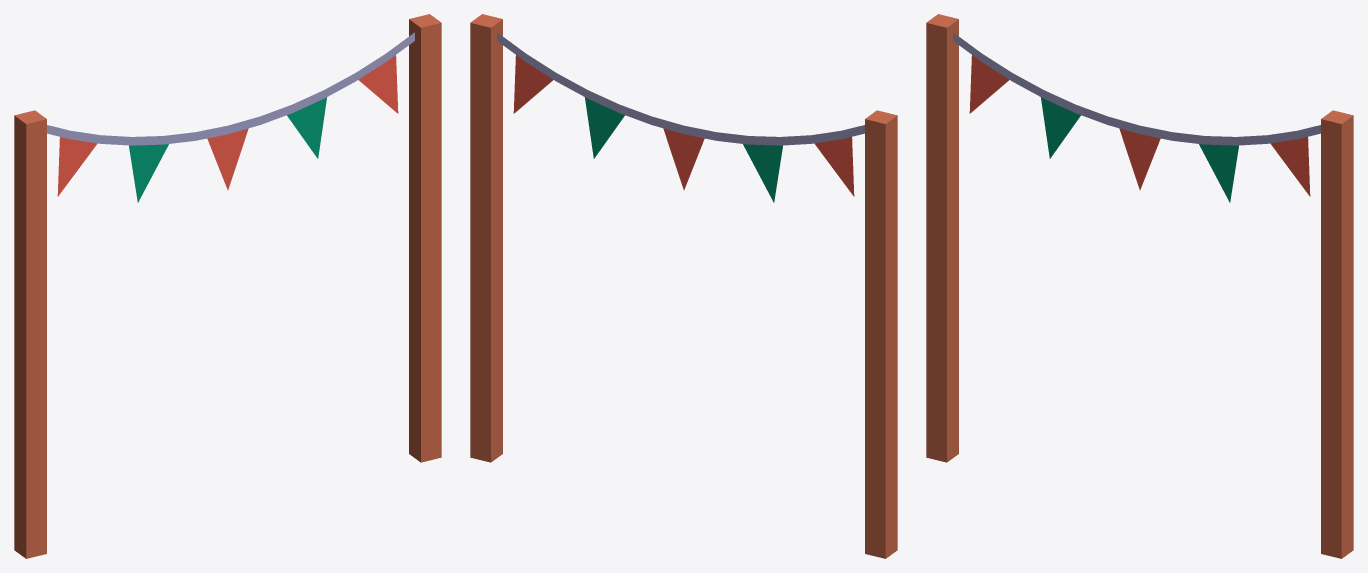
Rendered from map-goal.obj.
3 views of the same model, side by side, from view 1: azimuth 30°, elevation 25°; view 2: azimuth 150°, elevation 25°; view 3: azimuth 330°, elevation 25° (orthographic).
Parts seen in each view (by area): view 1: mergedBlocks; view 2: mergedBlocks; view 3: mergedBlocks.
Part boxes in pixels (x1,y1,x2,y2): mergedBlocks: [14, 14, 441, 558]; mergedBlocks: [470, 14, 897, 558]; mergedBlocks: [926, 14, 1353, 558].
Size of the model in its own units: 2.03 by 2.03 by 0.1015.
